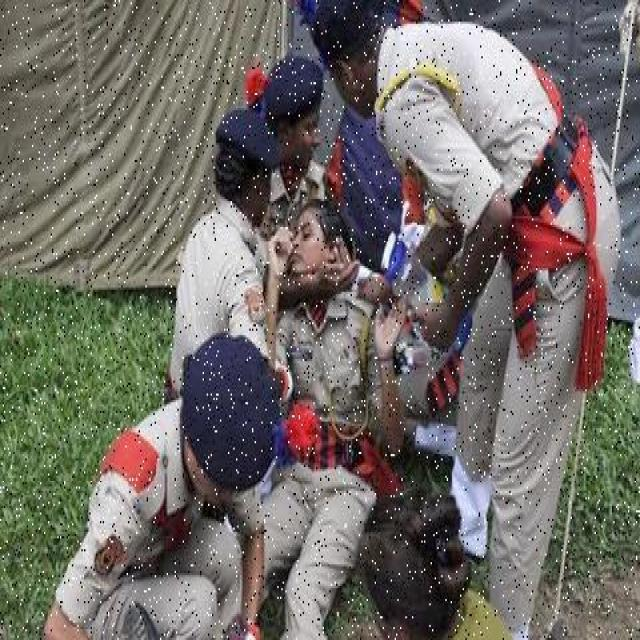fall: (262, 210, 370, 627)
